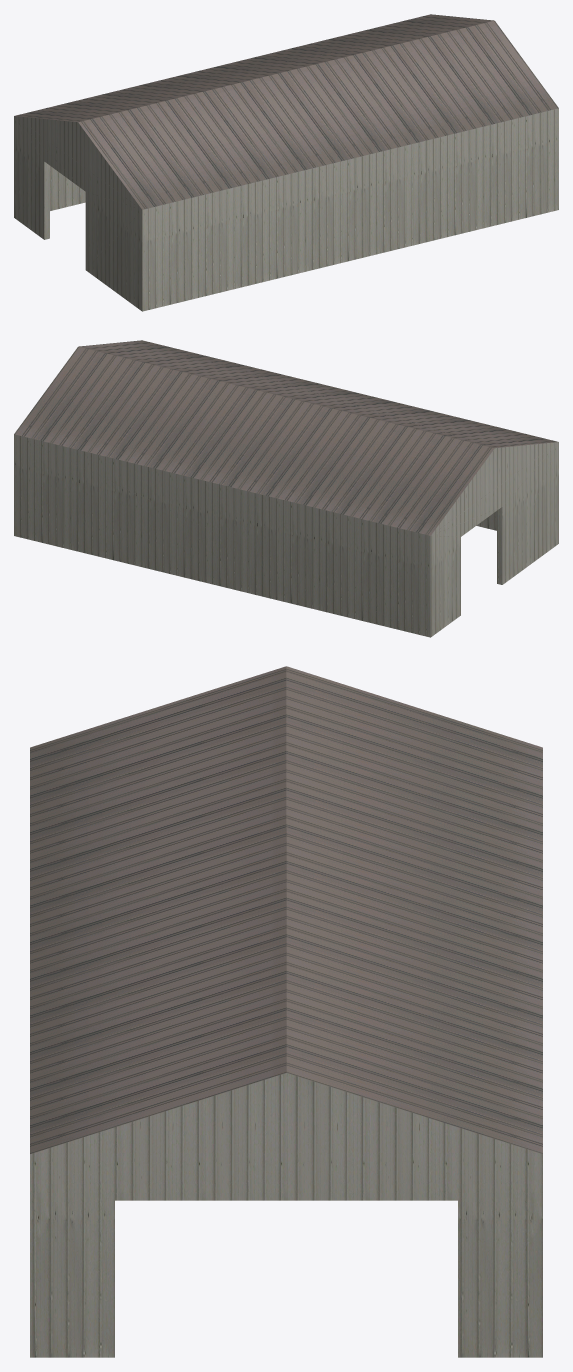
Rendered from des_rshed1_.obj.
3 views of the same model, one above another, from view 1: azimuth 30°, elevation 25°; view 2: azimuth 150°, elevation 25°; view 3: azimuth 270°, elevation 25° (orthographic). The views are drawn at different scales.
Parts seen in each view (by area): view 1: des_rshed1_; view 2: des_rshed1_; view 3: des_rshed1_.
Part boxes in pixels (box(x1,y1,x2,y2)): des_rshed1_: box(14, 14, 558, 311); des_rshed1_: box(14, 340, 558, 637); des_rshed1_: box(30, 666, 542, 1357).
Bounding box in the file's own units: 23.42 × 7.65 × 12.49.
Materials: 2 (2 with a texture image).
